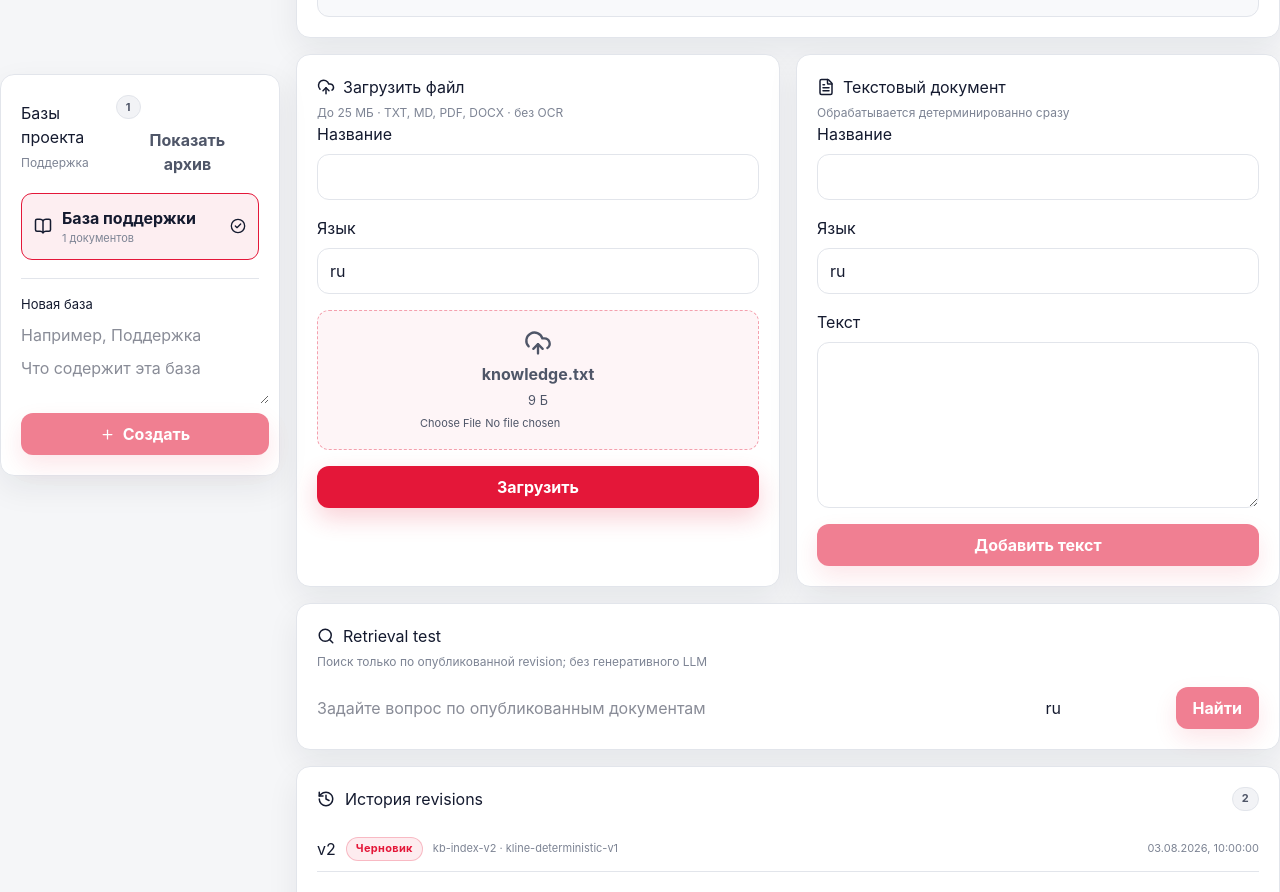
knowledge workspace › shows browser upload progress separately from worker status
Earlier steps of the test are not shown.
(page scrolled)
What coordinates should you click on to do the following:
click the button "Загрузить"
I would click on:
 (538, 487)
Its box is [317,466,759,508].
(page scrolled)
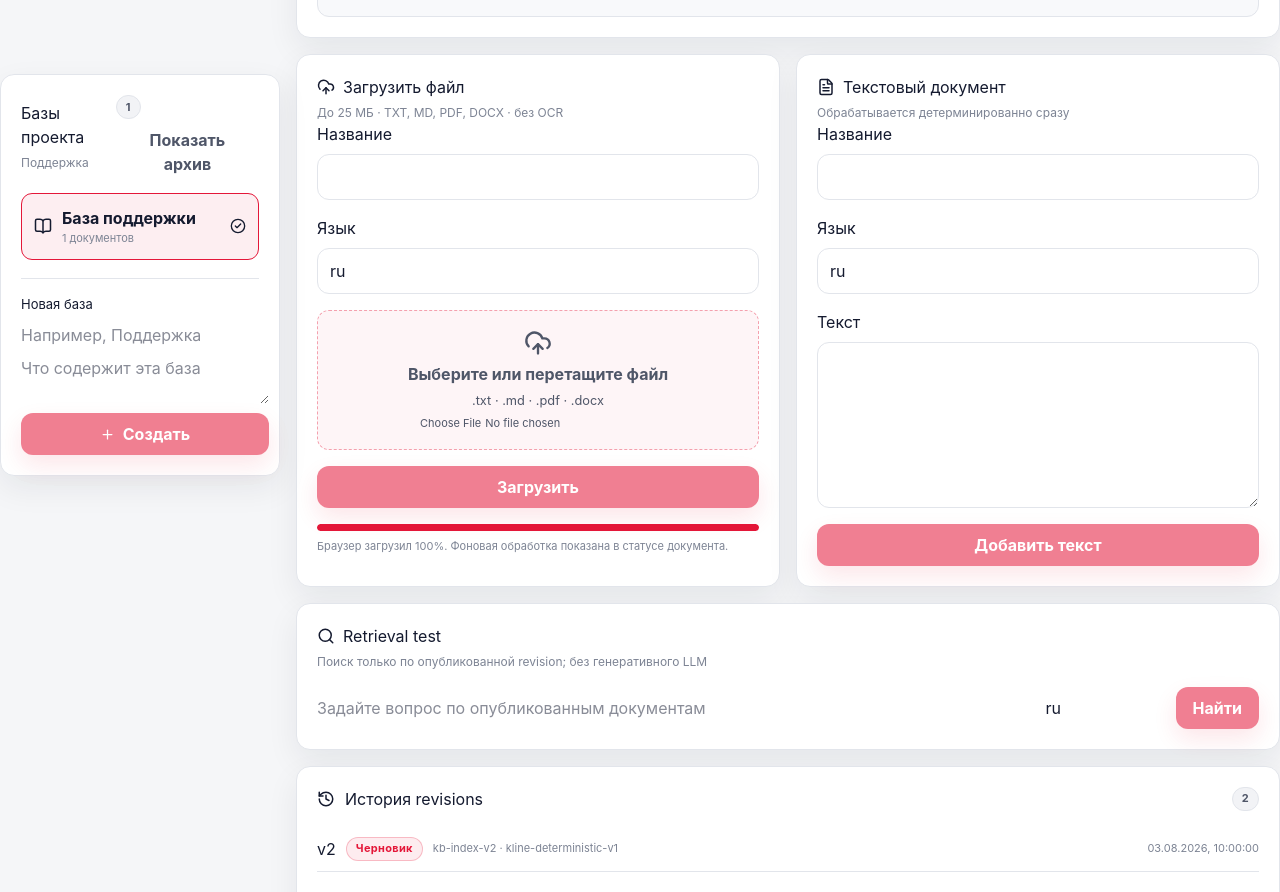
Expected: the text "Браузер загрузил 100%" is shown, [317,538,759,555]
Expected: the text "Фоновая обработка показана" is shown, [433,539,728,553]
